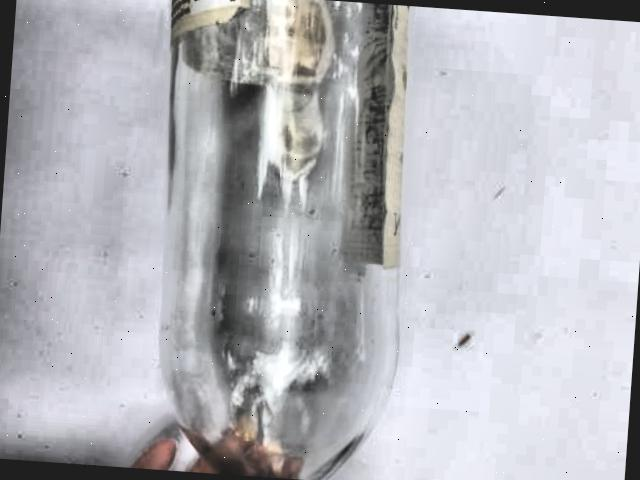Bottles: (111, 0, 436, 480)
